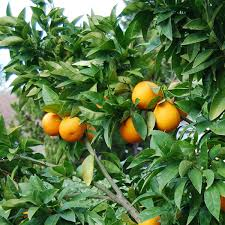orange: (121, 113, 148, 147), (156, 104, 183, 134), (41, 109, 63, 140), (134, 80, 159, 107), (63, 116, 87, 143)
